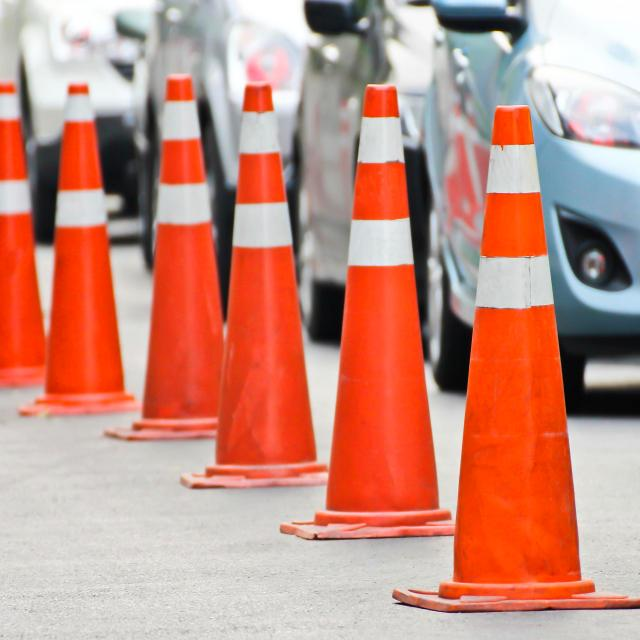cone: (390, 95, 640, 616), (277, 81, 453, 550), (178, 80, 325, 498), (103, 72, 235, 444), (22, 87, 124, 420), (0, 83, 41, 391)
